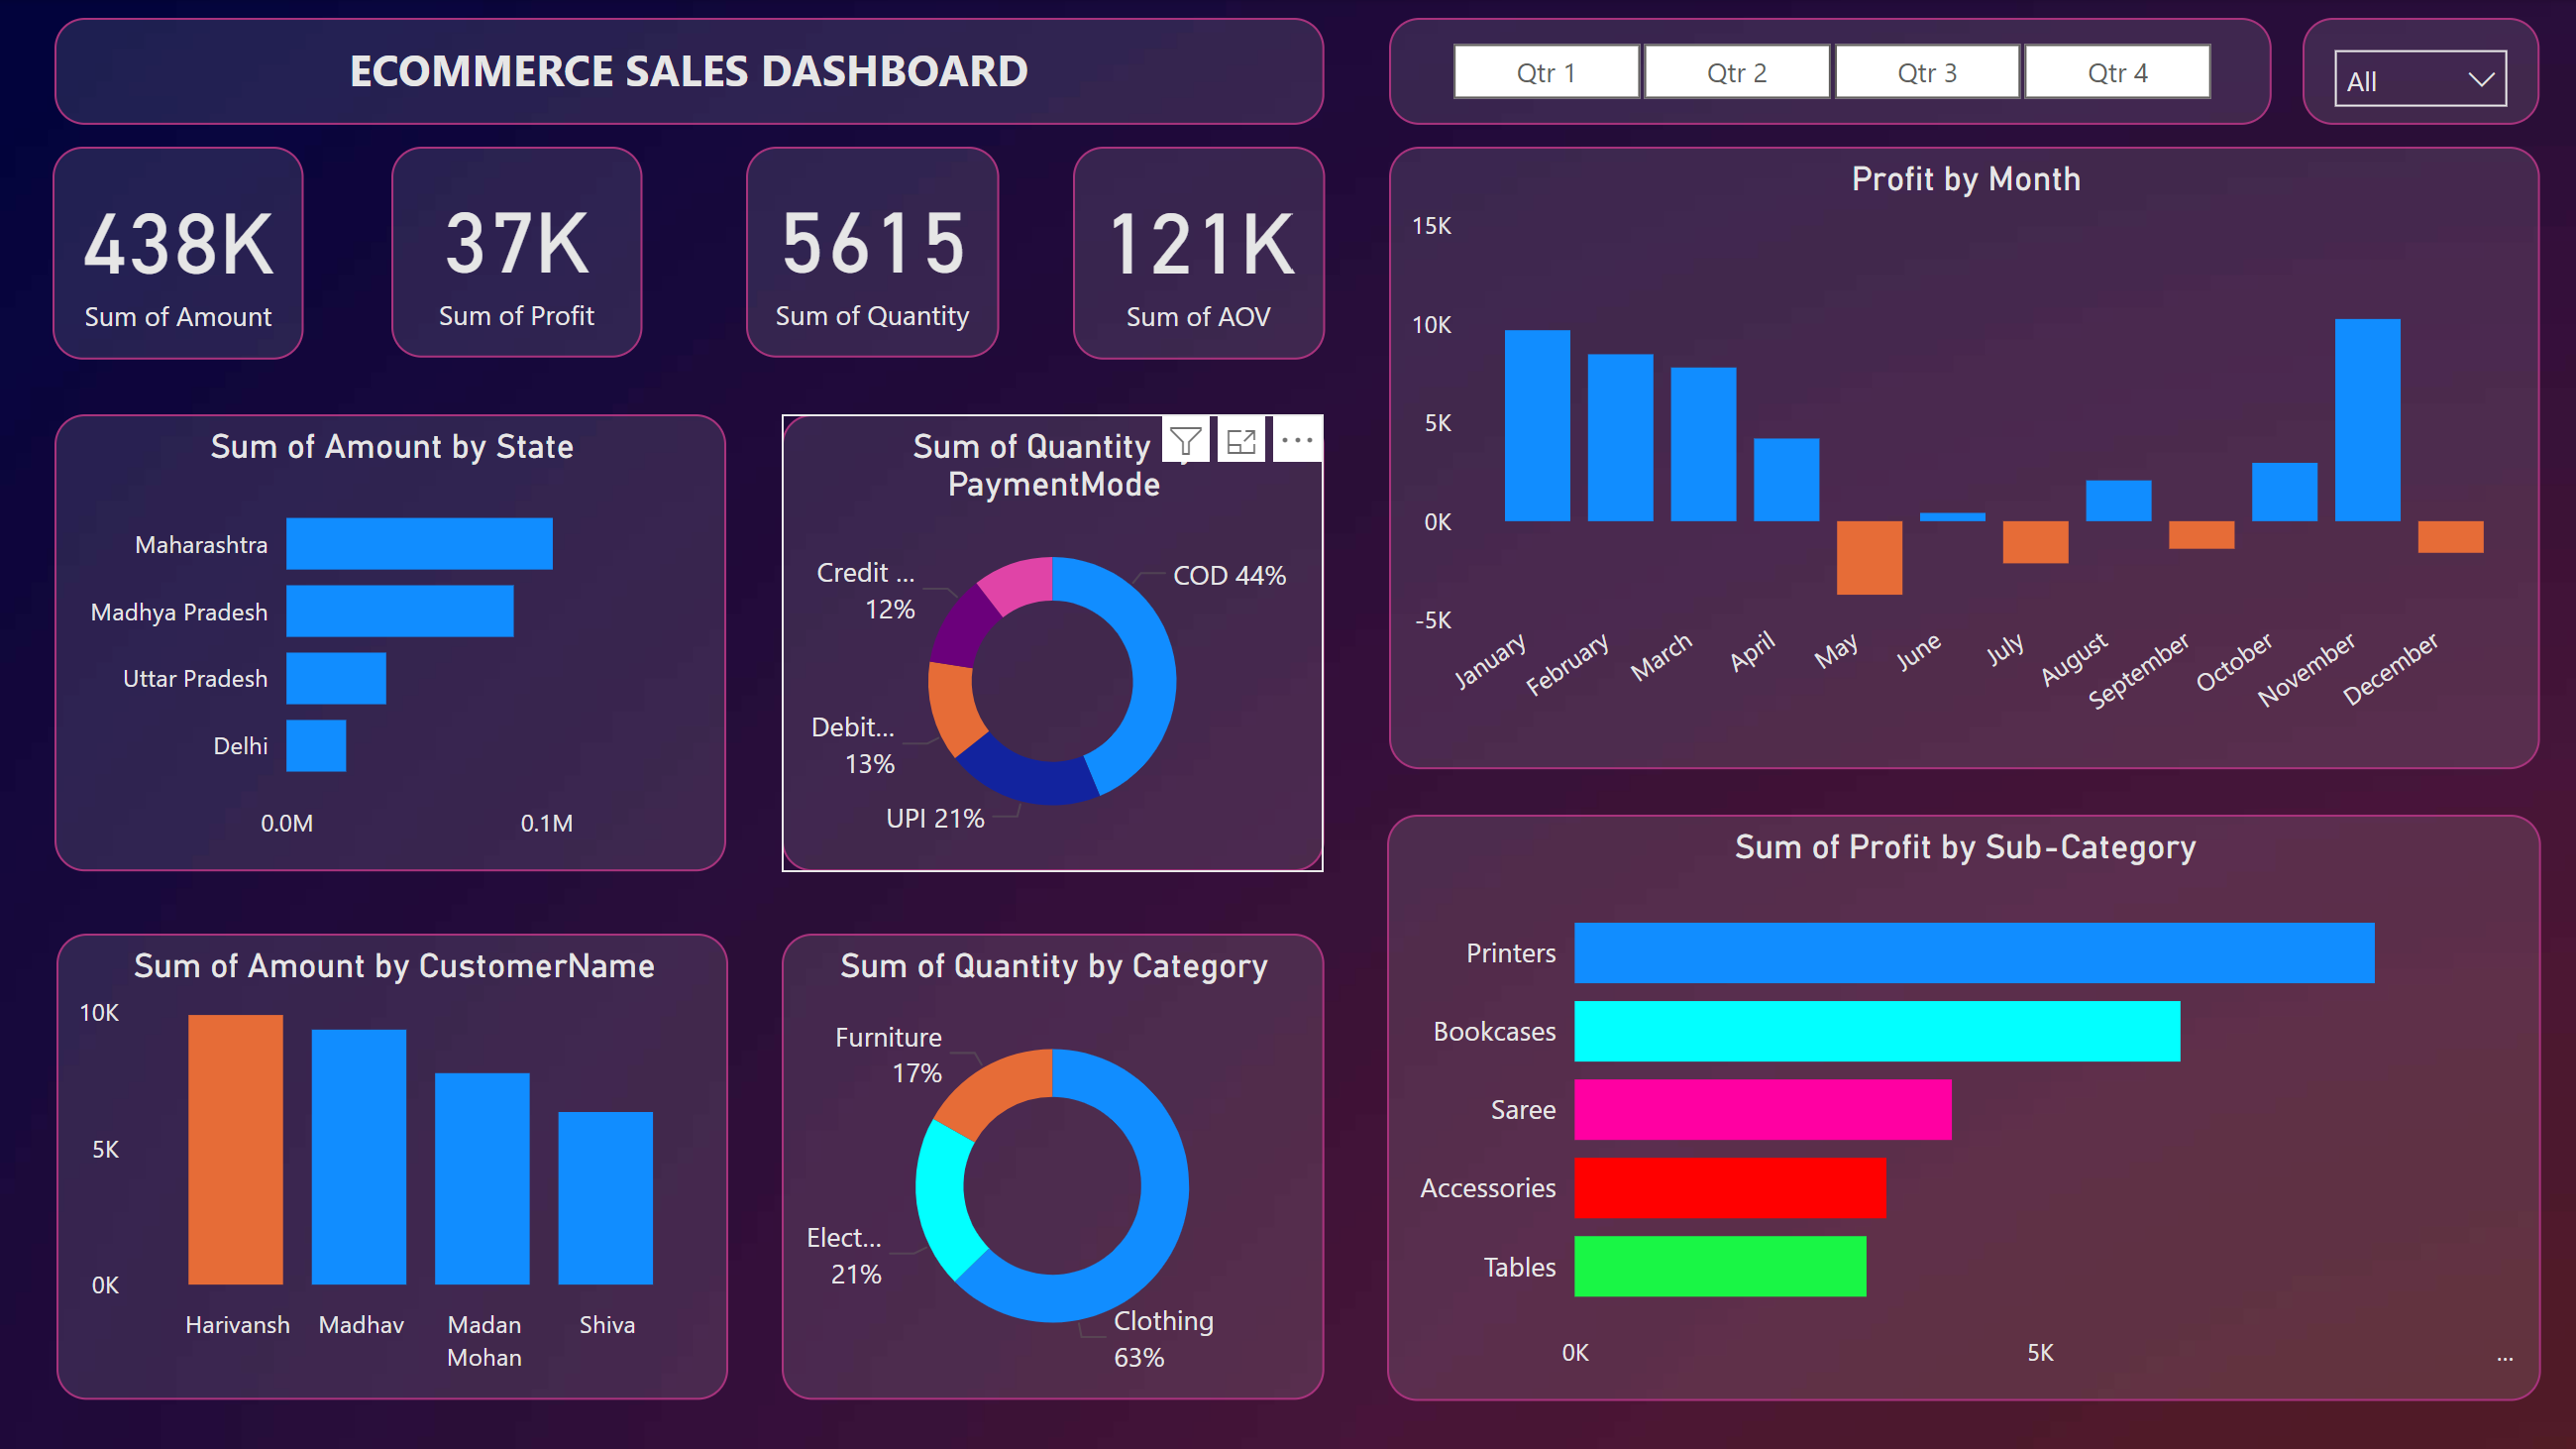

This screenshot's page, from the dashboard's own definition file:
{"tool":"powerbi","page":{"name":"Page 1","canvas":[1280,720],"ordinal":0},"visuals":[{"type":"textbox","box":[27.5,9.9,629,52.8],"z":0},{"type":"columnChart","title":"Profit by Month","fields":{"Category":["Orders.Order Date.Variation.Date Hierarchy.Month"],"Y":["Details.Profit"]},"box":[688.8,73.3,570.6,308.4],"z":1000},{"type":"barChart","fields":{"Category":["Details.Sub-Category"],"Y":["Details.Profit"]},"box":[687.6,404.8,571.9,290.4],"z":2000},{"type":"donutChart","fields":{"Y":["Details.Quantity"],"Category":["Details.Category"]},"box":[388.2,464.1,268.3,230.9],"z":3000},{"type":"donutChart","fields":{"Y":["Details.Quantity"],"Category":["Details.PaymentMode"]},"box":[388.2,206.7,268.3,226.5],"z":4000},{"type":"card","fields":{"Values":["Details.Amount"]},"box":[28.6,74.8,123.2,104.5],"z":5000},{"type":"card","fields":{"Values":["Details.Profit"]},"box":[194.6,73.7,124.3,104.5],"z":6000},{"type":"card","fields":{"Values":["Details.Quantity"]},"box":[361.8,73.7,125.4,104.5],"z":7000},{"type":"card","fields":{"Values":["Details.AOV"]},"box":[532,73.3,124.7,105.4],"z":8000},{"type":"barChart","fields":{"Category":["Orders.State"],"Y":["Details.Amount"]},"box":[27.5,206.7,333.2,226.5],"z":9000},{"type":"columnChart","fields":{"Category":["Orders.CustomerName"],"Y":["Details.Amount"]},"box":[28.6,464.1,333.2,230.9],"z":10000},{"type":"slicer","fields":{"Values":["Orders.Order Date.Variation.Date Hierarchy.Quarter"]},"box":[688.4,9.9,437.7,52.8],"z":11000},{"type":"slicer","fields":{"Values":["Orders.State"]},"box":[1141.4,9.9,117.7,52.8],"z":12000}]}

Visuals, with their boxes in screenshot pixels (x1, y1, x2, y2), scaled from the page's 1280x720 canvas onto the 2576x1449 screenshot:
textbox: left=55, top=20, right=1322, bottom=126
"Profit by Month" columnChart: left=1386, top=148, right=2534, bottom=768
barChart - Details.Sub-Category x Details.Profit: left=1384, top=815, right=2534, bottom=1399
donutChart - Details.Quantity x Details.Category: left=782, top=934, right=1322, bottom=1398
donutChart - Details.Quantity x Details.PaymentMode: left=782, top=416, right=1322, bottom=872
card - Details.Amount: left=57, top=151, right=305, bottom=361
card - Details.Profit: left=391, top=149, right=642, bottom=359
card - Details.Quantity: left=728, top=149, right=981, bottom=359
card - Details.AOV: left=1071, top=148, right=1322, bottom=360
barChart - Orders.State x Details.Amount: left=55, top=416, right=726, bottom=872
columnChart - Orders.CustomerName x Details.Amount: left=57, top=934, right=728, bottom=1398
slicer - Orders.Order Date.Variation.Date Hierarchy.Quarter: left=1385, top=20, right=2266, bottom=126
slicer - Orders.State: left=2297, top=20, right=2534, bottom=126
